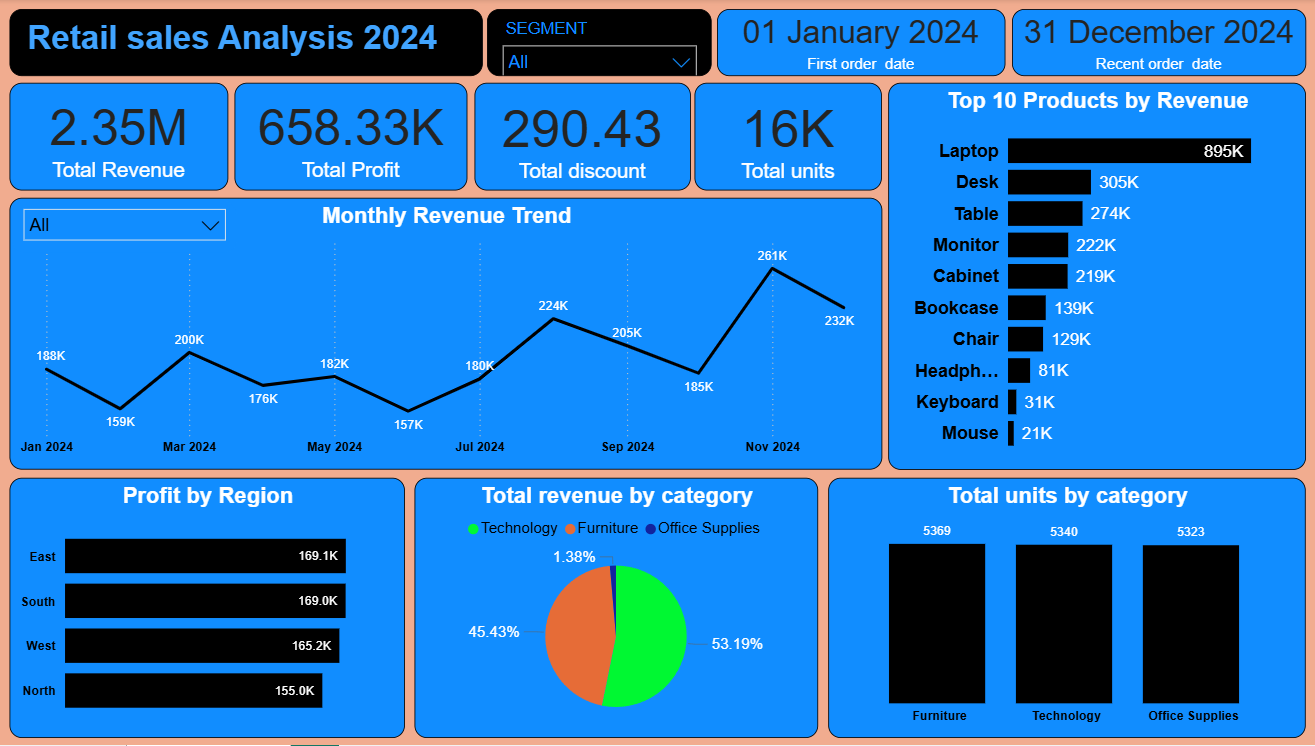

This screenshot's page, from the dashboard's own definition file:
{"tool":"powerbi","page":{"name":"Retail sales 2024","canvas":[1280,720],"ordinal":0},"visuals":[{"type":"textbox","box":[16.5,9.6,456.9,64.5],"z":0},{"type":"card","fields":{"Values":["Sum(retail_sales_2024.revenue)"]},"box":[16.5,81,211.3,104.3],"z":1000},{"type":"card","fields":{"Values":["Sum(retail_sales_2024.profit)"]},"box":[234.6,81,225,104.3],"z":2000},{"type":"lineChart","title":"Monthly Revenue Trend","fields":{"Y":["Sum(retail_sales_2024.revenue)"],"Category":["retail_sales_2024.order_date.Variation.Date Hierarchy.Year","retail_sales_2024.order_date.Variation.Date Hierarchy.Month"]},"box":[16.5,192.1,842.5,262.1],"z":3000},{"type":"barChart","title":"Profit by Region","fields":{"Category":["retail_sales_2024.region"],"Y":["Sum(retail_sales_2024.profit)"]},"box":[16.5,462.4,381.5,251.1],"z":4000},{"type":"barChart","title":"Top 10 Products by Revenue","fields":{"Category":["retail_sales_2024.product"],"Y":["Sum(retail_sales_2024.revenue)"]},"box":[864.5,81,403.4,373.2],"z":5000},{"type":"pieChart","title":"Total revenue by category","fields":{"Category":["retail_sales_2024.category"],"Y":["Sum(retail_sales_2024.revenue)"]},"box":[407.5,462.4,389.7,251.1],"z":6000},{"type":"columnChart","title":"Total units by category","fields":{"Category":["retail_sales_2024.category"],"Y":["Sum(retail_sales_2024.units)"]},"box":[806.9,462.4,461.1,251.1],"z":7000},{"type":"slicer","fields":{"Values":["retail_sales_2024.segment"]},"box":[477.5,9.6,216.8,64.5],"z":8000},{"type":"card","fields":{"Values":["Sum(retail_sales_2024.units)"]},"box":[677.9,81,181.1,104.3],"z":8001},{"type":"card","fields":{"Values":["Sum(retail_sales_2024.discount)"]},"box":[465.2,81,208.6,104.3],"z":8002},{"type":"card","fields":{"Values":["Min(retail_sales_2024.order_date)"]},"box":[699.8,9.6,278.6,64.5],"z":8003},{"type":"card","fields":{"Values":["Max(retail_sales_2024.order_date)"]},"box":[983.9,9.6,284,64.5],"z":8004},{"type":"slicer","fields":{"Values":["retail_sales_2024.Month Name"]},"box":[19.2,194.9,216.8,49.4],"z":8005}]}

Visuals, with their boxes in screenshot pixels (x1, y1, x2, y2), scaled from the page's 1280x720 canvas onto the 1315x746 screenshot:
textbox: (17, 10, 486, 77)
card - Sum(retail_sales_2024.revenue): (17, 84, 234, 192)
card - Sum(retail_sales_2024.profit): (241, 84, 472, 192)
"Monthly Revenue Trend" lineChart: (17, 199, 882, 471)
"Profit by Region" barChart: (17, 479, 409, 739)
"Top 10 Products by Revenue" barChart: (888, 84, 1303, 471)
"Total revenue by category" pieChart: (419, 479, 819, 739)
"Total units by category" columnChart: (829, 479, 1303, 739)
slicer - retail_sales_2024.segment: (491, 10, 713, 77)
card - Sum(retail_sales_2024.units): (696, 84, 882, 192)
card - Sum(retail_sales_2024.discount): (478, 84, 692, 192)
card - Min(retail_sales_2024.order_date): (719, 10, 1005, 77)
card - Max(retail_sales_2024.order_date): (1011, 10, 1303, 77)
slicer - retail_sales_2024.Month Name: (20, 202, 242, 253)
